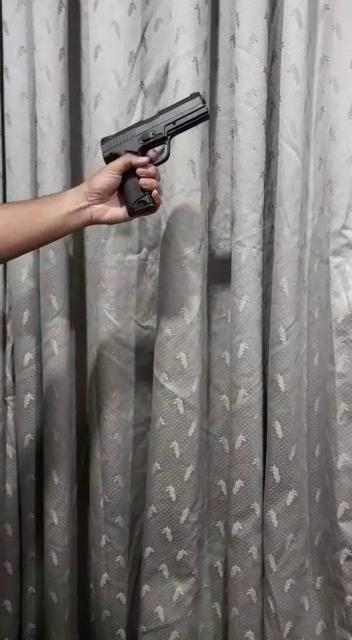weapon: (96, 90, 215, 221)
